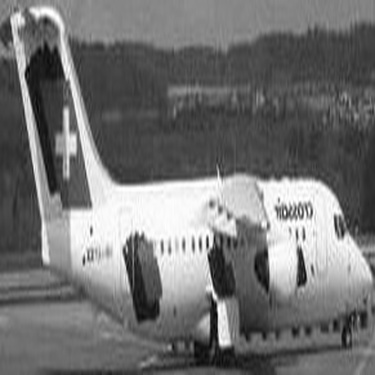airplane: (1, 6, 370, 365)
